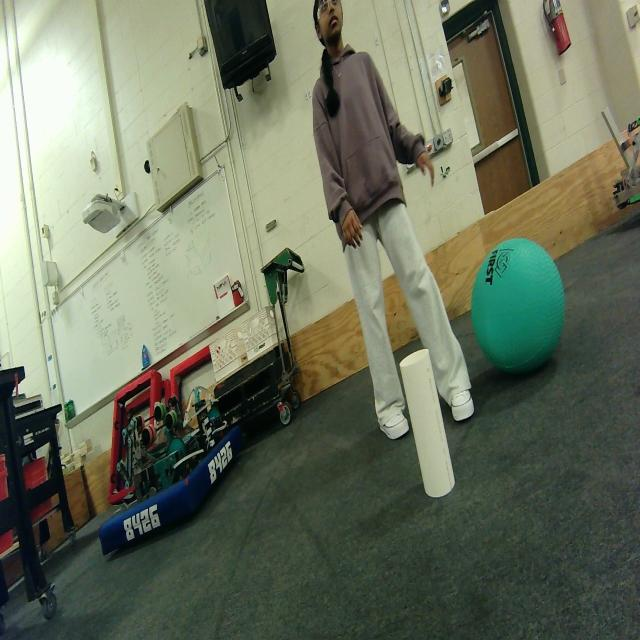algae: (466, 224, 584, 388)
coral: (396, 333, 462, 508)
